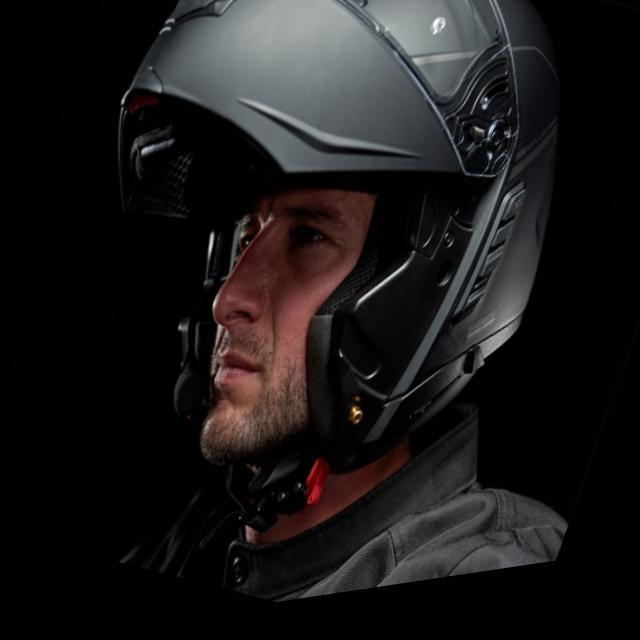Helmet: (87, 0, 569, 519)
